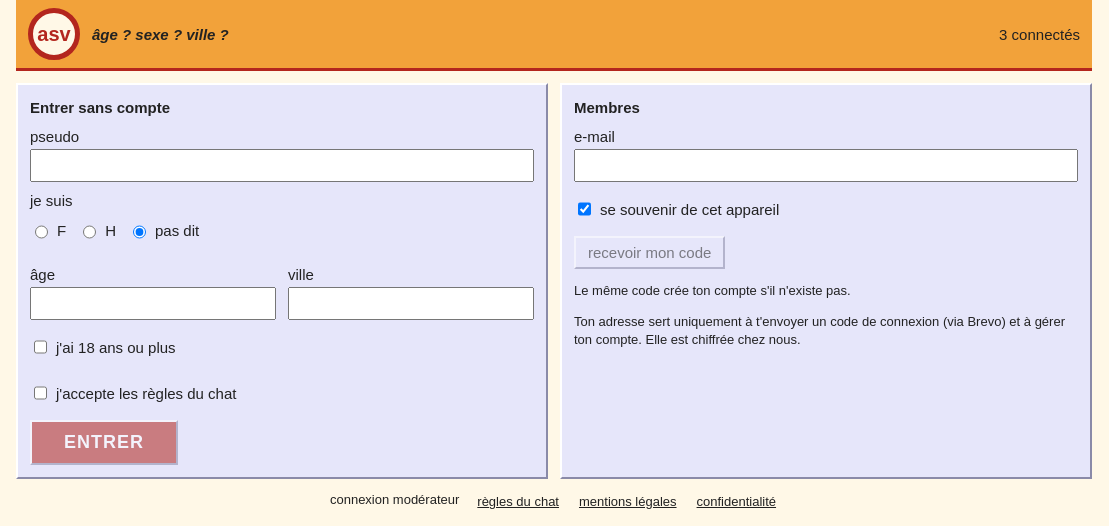
entry screen › enables ENTRER once everything is filled and online
Type "  ana  " into the field labelled "pseudo".
click(282, 166); type("  ana  ")  # box [30, 149, 534, 182]
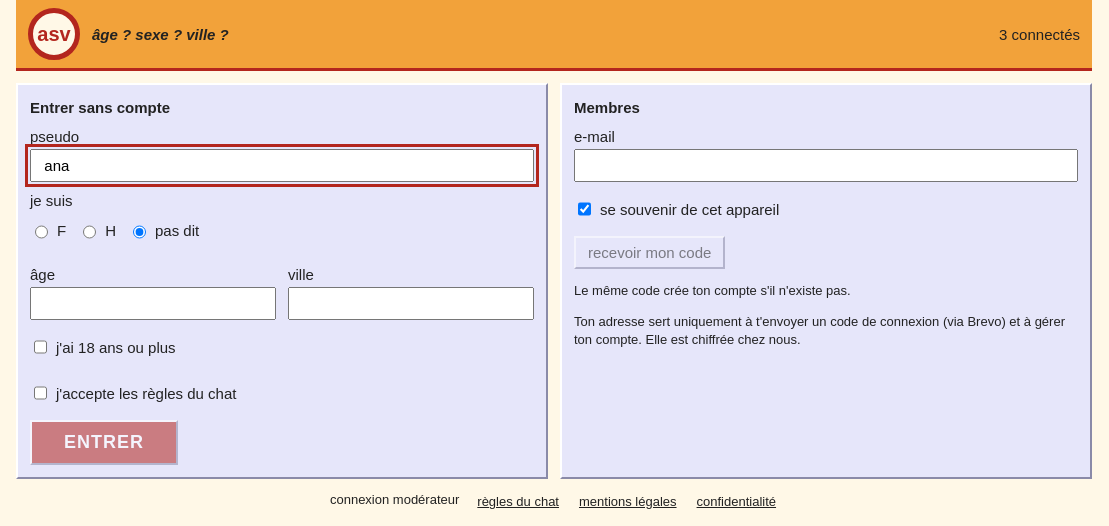
Type "30" into the number field labelled "âge".
click(153, 304); type("30")  # box [30, 287, 276, 320]
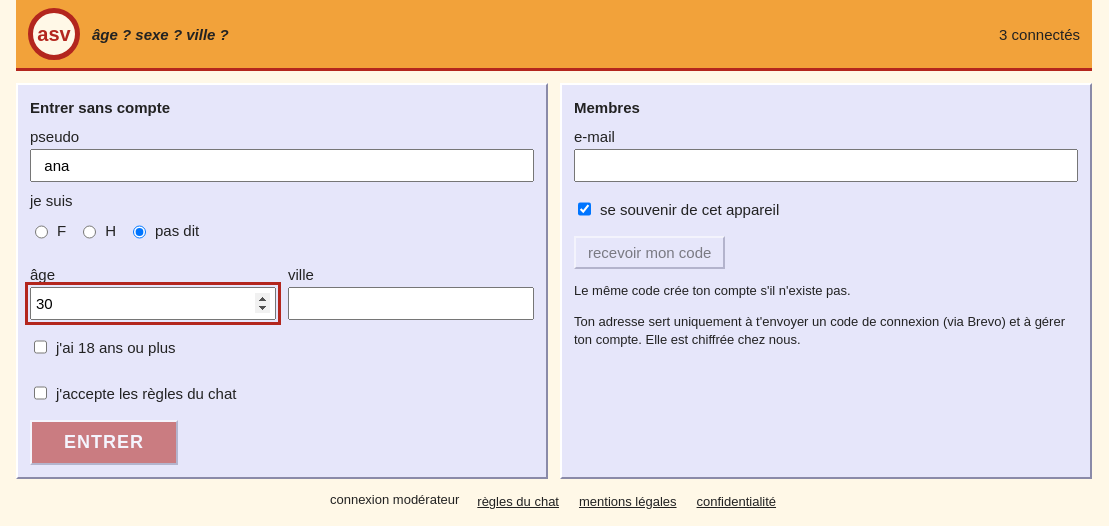
Click the checkbox labelled "j'ai 18 ans ou plus".
click(40, 347)  # box [34, 331, 47, 363]
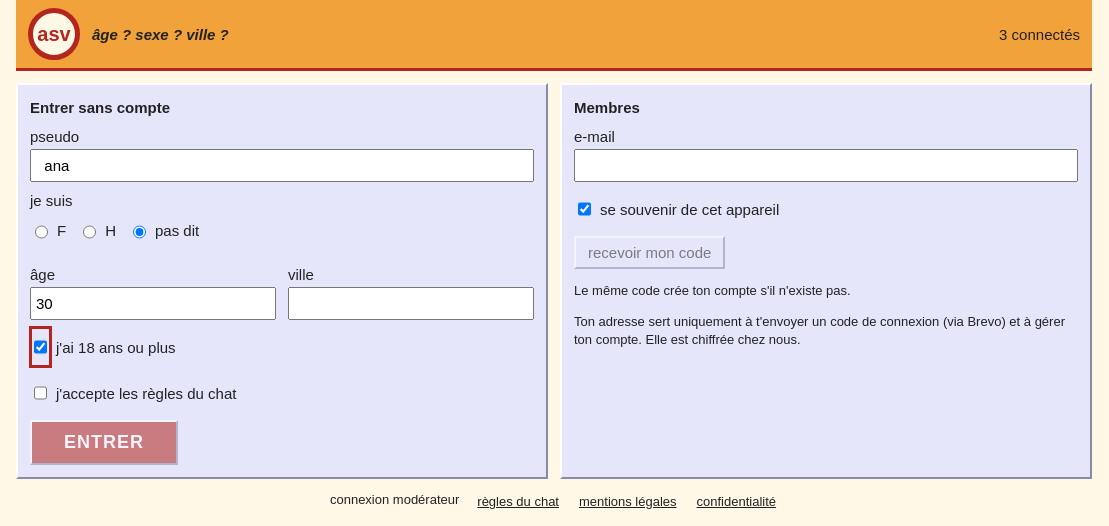
Click the checkbox labelled "j'accepte les règles du chat".
click(40, 393)  # box [34, 377, 47, 409]
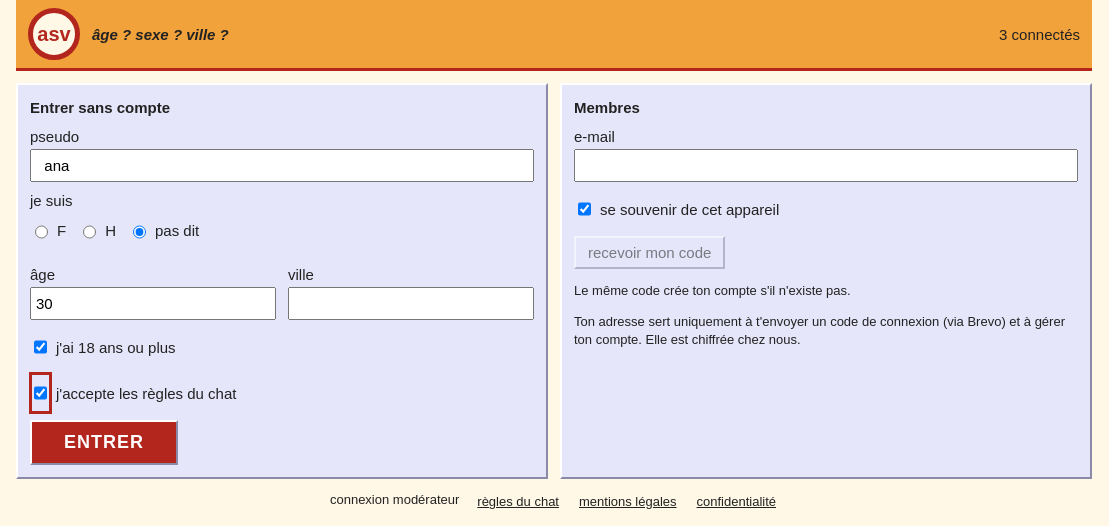
Expected: the button "ENTRER" is enabled, [30, 420, 178, 465]
